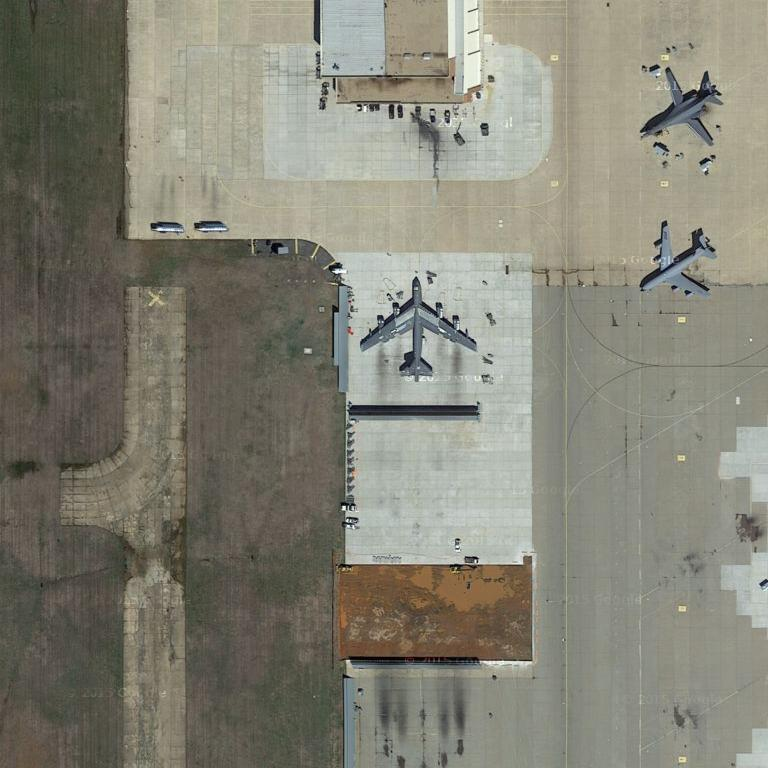B-1B: (641, 68, 723, 148)
B-52: (360, 272, 477, 377)
KC-135: (635, 216, 718, 302)
